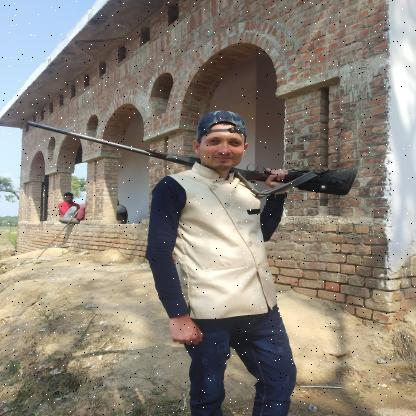rifle: (25, 119, 360, 197)
